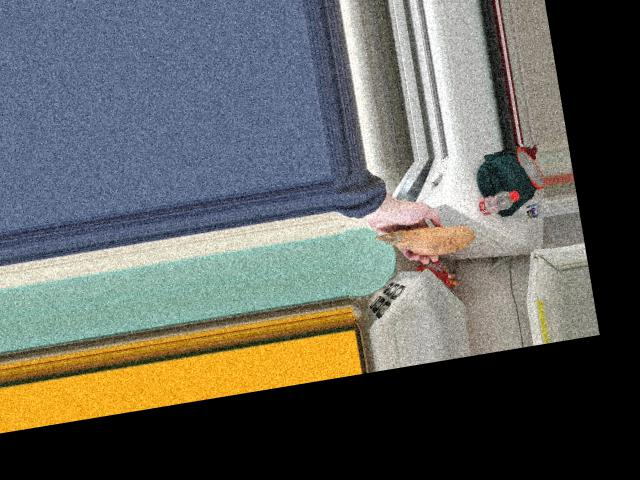sweet_potato: (365, 225, 474, 270)
